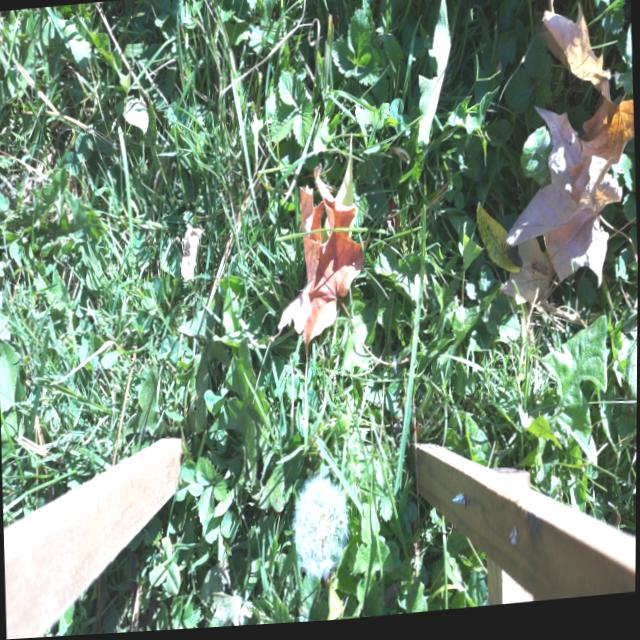base: (319, 579, 339, 604)
